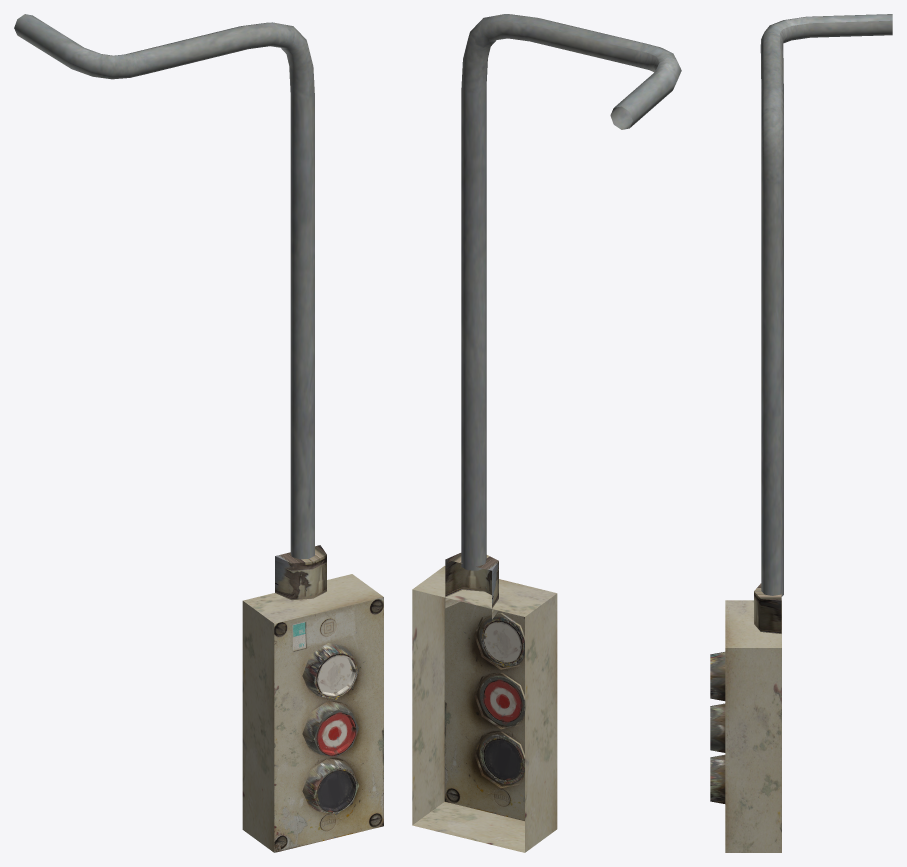
Rendered from Botao1.fbx.
3 renders of one model, left to right at view 1: azimuth 30°, elevation 25°; view 2: azimuth 150°, elevation 25°; view 3: azimuth 270°, elevation 25°, orthographic. The views are drawn at different scales.
Visible parts, largest first — view 1: Botao1; view 2: Botao1; view 3: Botao1.
Boxes of the visible parts, x1=… form: Botao1: x1=14, y1=14, x2=383, y2=852; Botao1: x1=412, y1=14, x2=681, y2=852; Botao1: x1=710, y1=14, x2=892, y2=852.
Size of the model in its own units: 50.47 by 141 by 32.25.
